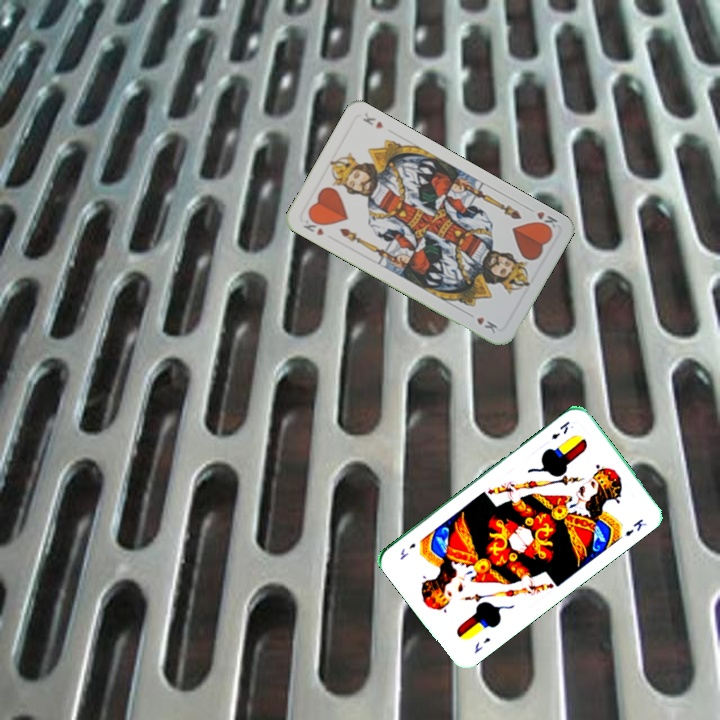EK: (547, 417, 572, 442), (470, 633, 493, 656)
HK: (523, 203, 560, 234), (299, 212, 327, 238)
